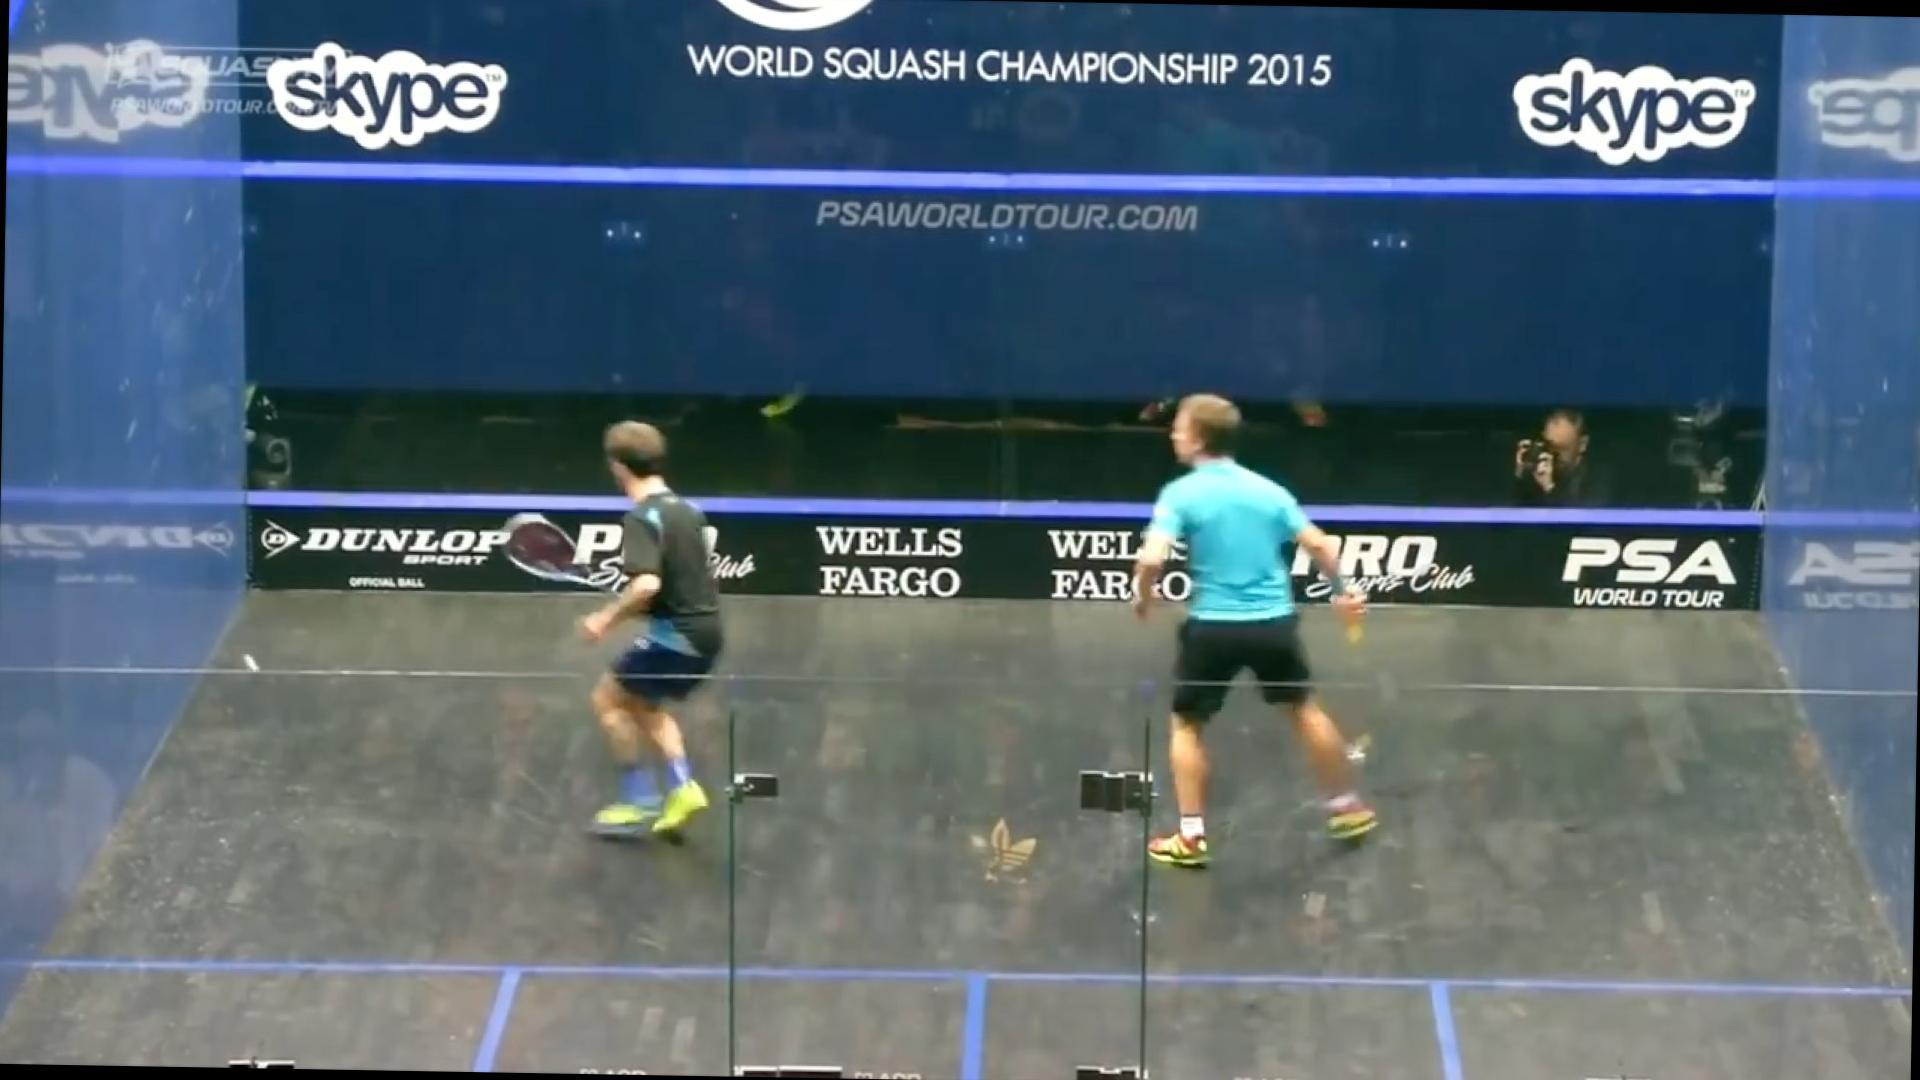Squash-Ball: (223, 626, 278, 694)
